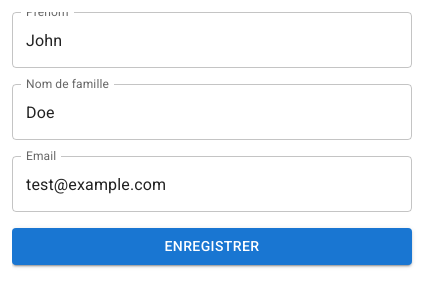
Test: UserInfoForm › devrait afficher un message d'erreur si le prénom est vide
Clear the field labelled "Prénom". click: (212, 40)
box: x1=12 y1=12 x2=412 y2=68
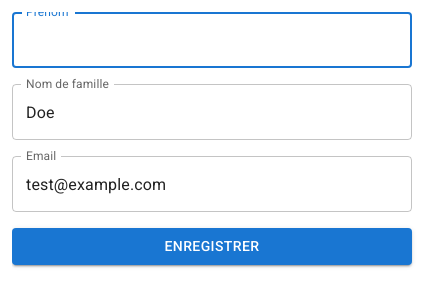
Click the button "Enregistrer". click: (212, 246)
box: x1=12 y1=228 x2=412 y2=264
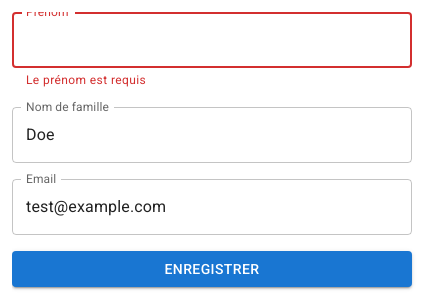
expect the text "Le prénom est requis" is shown: met, box x1=26 y1=73 x2=146 y2=87
